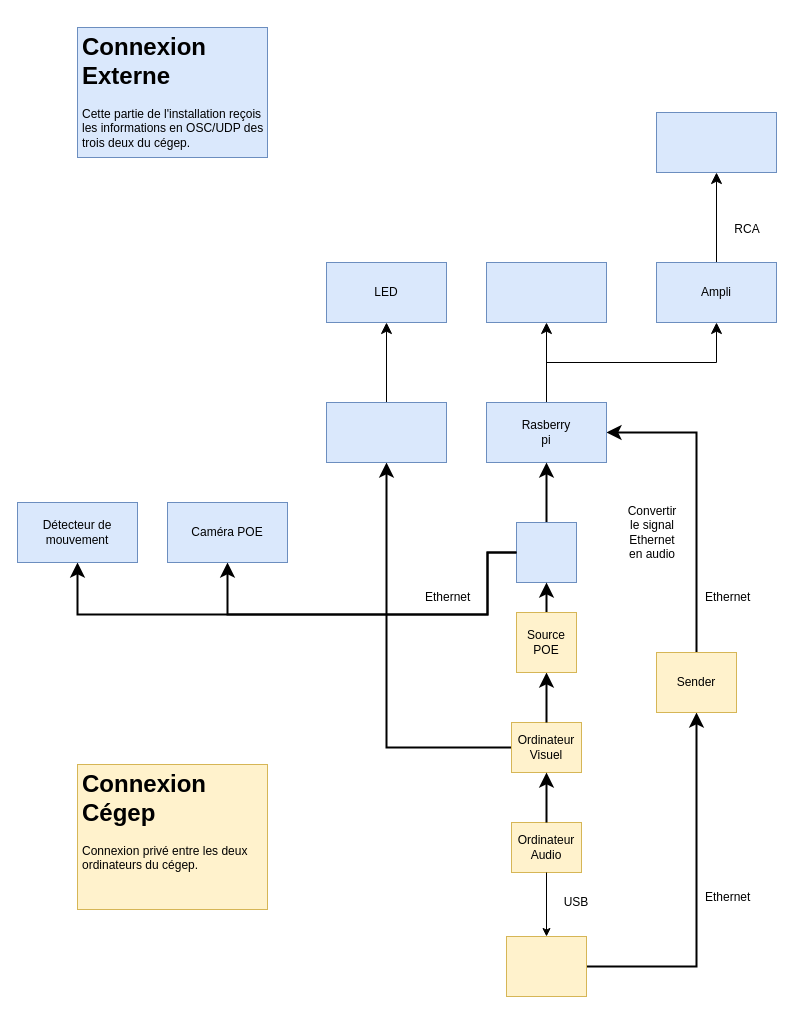
Image size: 794x1014. Some labels were removed from this diagram. The shapes that lost their labels are listed below. From the top down, each one's centre as x and y in pixels, then its label:
At pixel 716 142: "Speaker".
At pixel 546 292: "DMX".
At pixel 386 432: "Arduino".
At pixel 546 552: "Switch POE".
At pixel 546 966: "receiver".
